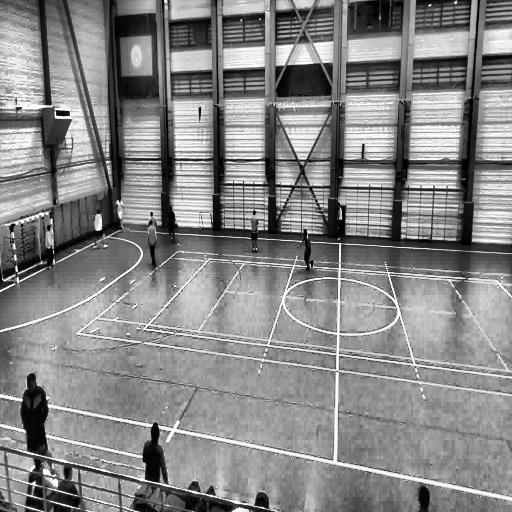player: (20, 376, 49, 465), (142, 423, 170, 504), (298, 228, 314, 269), (45, 224, 56, 269), (94, 210, 106, 249), (148, 218, 157, 268), (115, 198, 128, 232), (167, 206, 177, 244), (250, 210, 259, 252), (148, 209, 158, 245)
